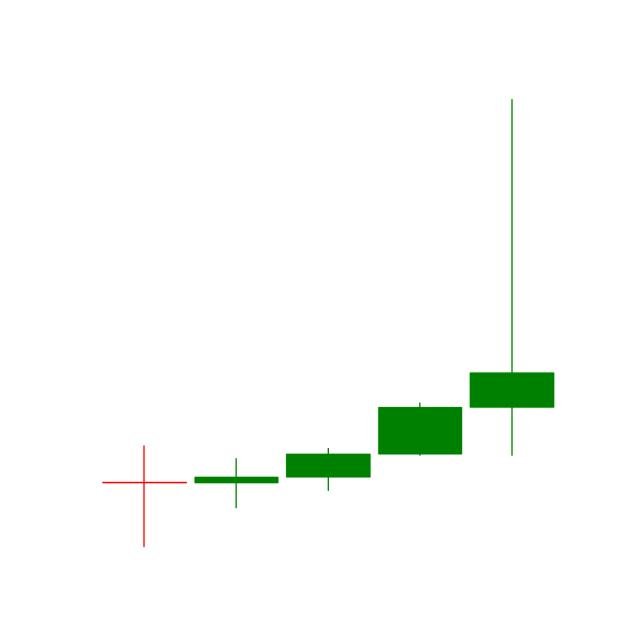Standard Doji: (104, 444, 188, 546), (194, 459, 281, 510)
